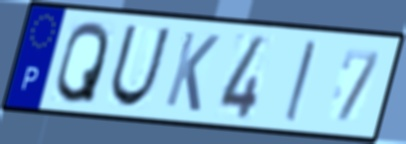4: (219, 32, 266, 121)
7: (333, 47, 382, 123)
I: (281, 38, 319, 125)
K: (161, 28, 222, 115)
Q: (52, 18, 112, 106)
U: (106, 22, 174, 110)
